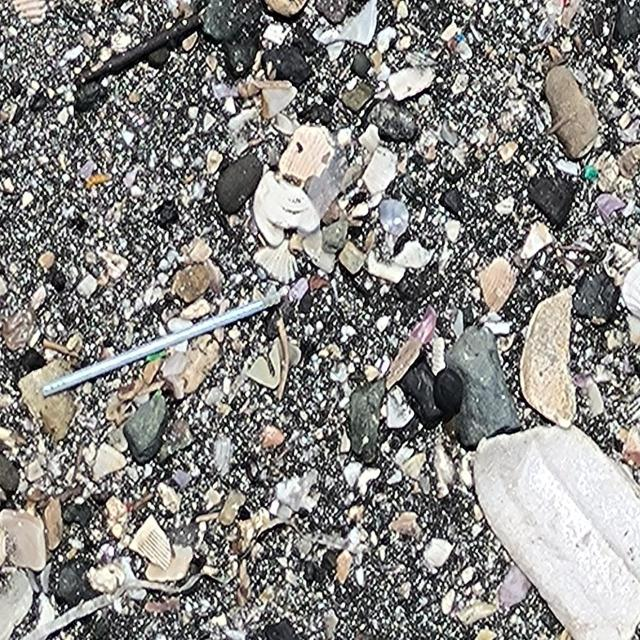litter: (471, 422, 640, 638), (40, 292, 283, 400)
